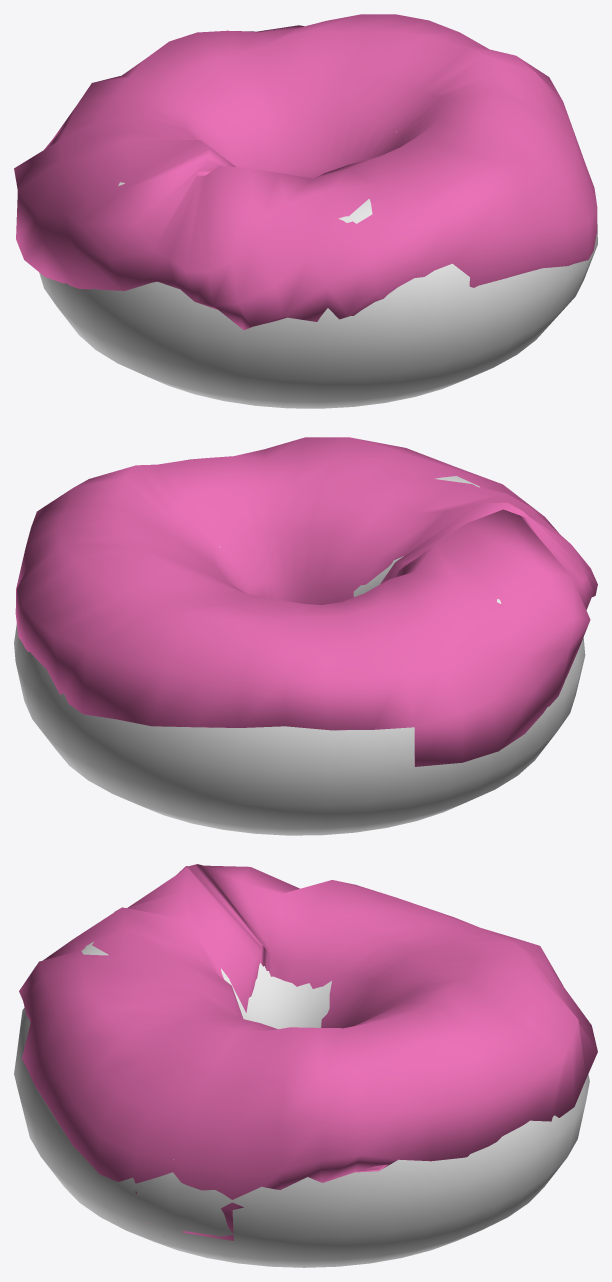
File: donut.gltf
3 views of the same model, one above another, from view 1: azimuth 30°, elevation 25°; view 2: azimuth 150°, elevation 25°; view 3: azimuth 270°, elevation 25° (orthographic).
Parts seen in each view (by area): view 1: Icing, Torus.003; view 2: Icing, Torus.003; view 3: Icing, Torus.003.
Boxes of the visible parts, left/top/right/bottom form: Icing: left=14, top=14, right=597, bottom=329; Torus.003: left=39, top=131, right=597, bottom=408; Icing: left=15, top=437, right=597, bottom=766; Torus.003: left=14, top=476, right=585, bottom=835; Icing: left=19, top=864, right=597, bottom=1240; Torus.003: left=14, top=941, right=589, bottom=1267.
Size of the model in its own units: 3.09 by 1.42 by 3.07.
